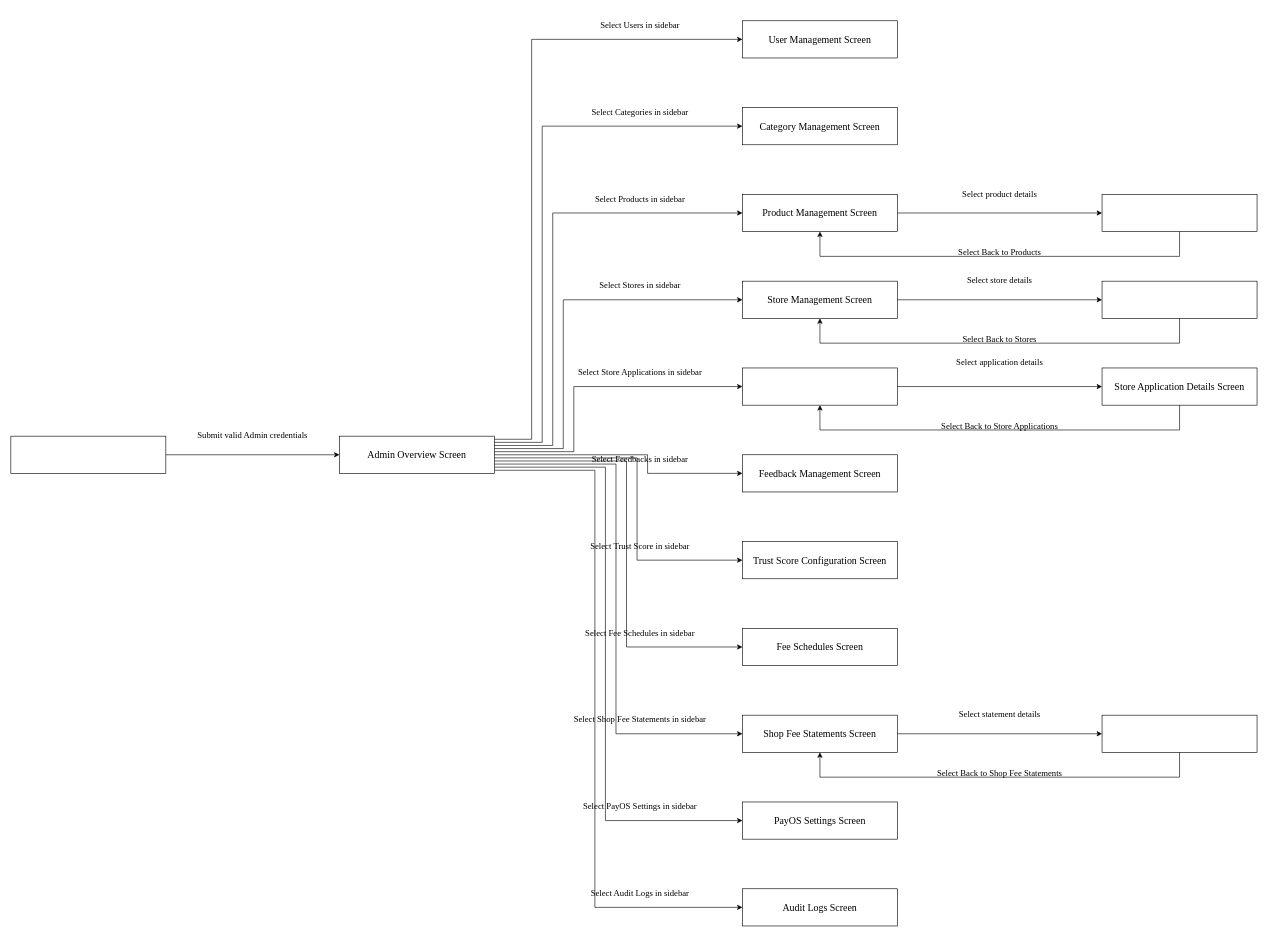
This 1268x937 diagram has some shape labels left out. Here are the shapes that lost their labels. From the top down, the centre of each, then its label:
(1179,213): Product Content Details Screen
(1179,299): Store Content Details Screen
(819,386): Store Applications Screen
(88,454): Sign In Screen
(1179,733): Platform Fee Details Screen
